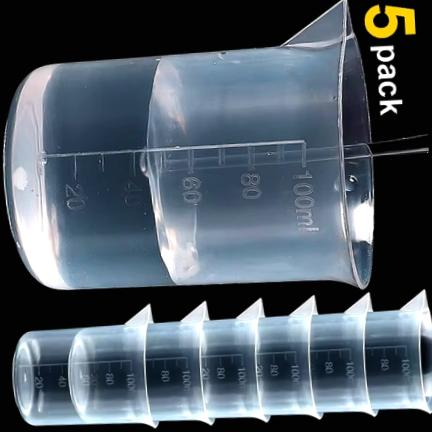container: (3, 0, 372, 289)
fluid: (11, 52, 170, 286)
fluid-surface: (144, 60, 188, 281)
